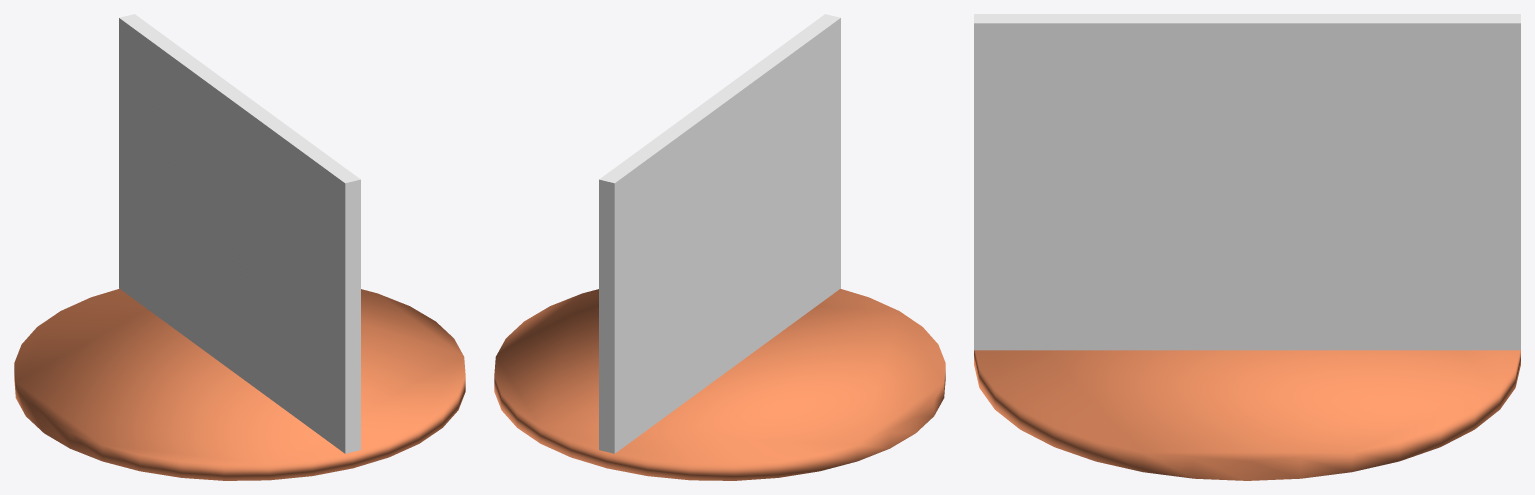
File: StageRound.glb
3 renders of one model, left to right at view 1: azimuth 30°, elevation 25°; view 2: azimuth 150°, elevation 25°; view 3: azimuth 270°, elevation 25°, orthographic. The views are drawn at different scales.
Parts seen in each view (by area): view 1: revolving stage; view 2: revolving stage; view 3: revolving stage.
Part boxes in pixels (<box>): revolving stage: <box>14,14,465,480</box>; revolving stage: <box>494,14,945,480</box>; revolving stage: <box>974,14,1520,480</box>.
Bounding box in the file's own units: 5 × 3.5 × 5.
